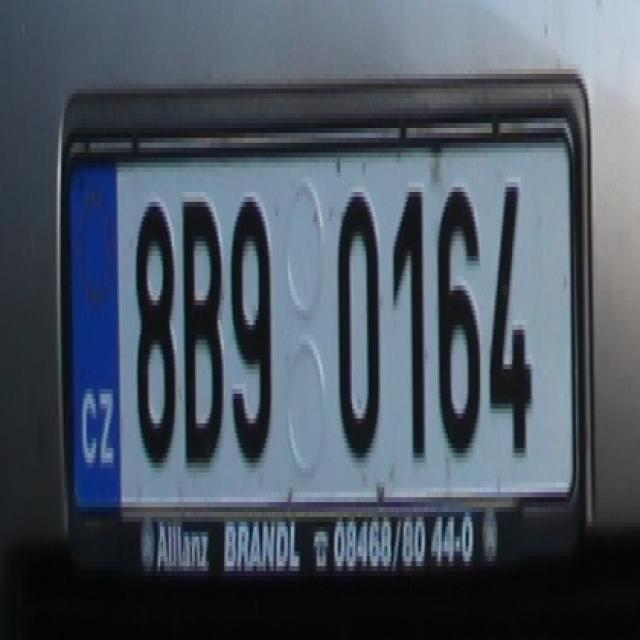0: (334, 177, 381, 463)
1: (387, 172, 428, 463)
4: (489, 172, 533, 463)
6: (434, 172, 483, 463)
8: (132, 192, 176, 473)
9: (228, 177, 272, 468)
B: (181, 177, 224, 468)
